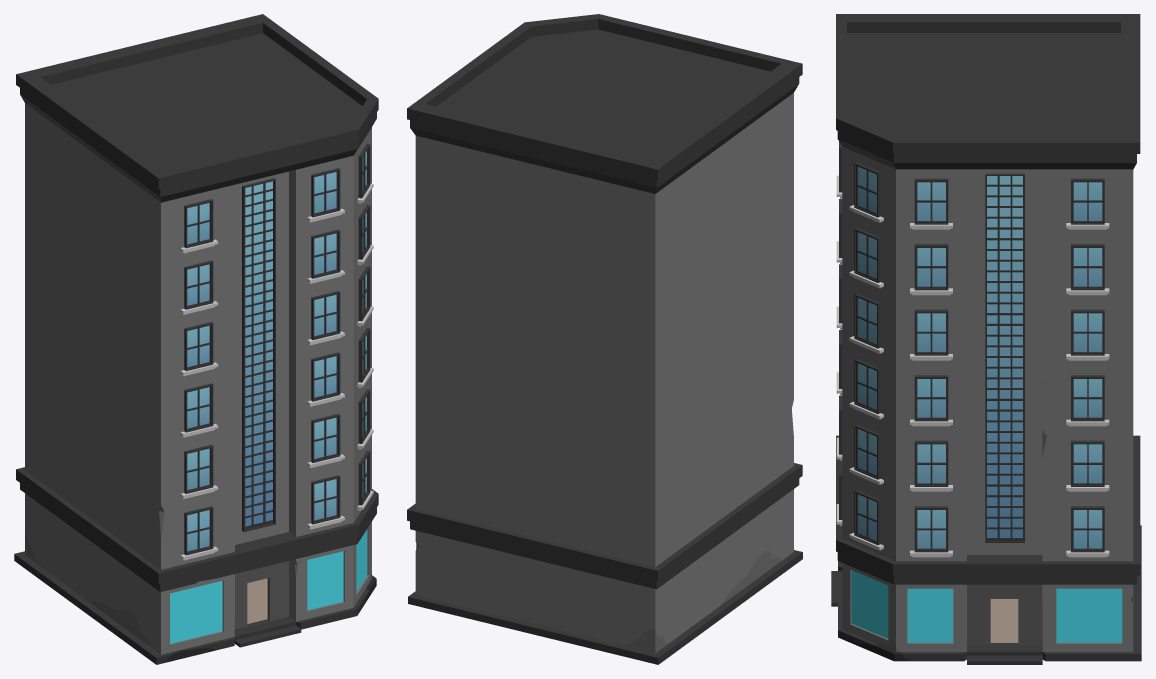
Rendered from SM_Buildings_Office_05.fbx.
The picture shows the model from 3 angles, left to right: view 1: azimuth 30°, elevation 25°; view 2: azimuth 150°, elevation 25°; view 3: azimuth 270°, elevation 25°; orthographic projection. The views are drawn at different scales.
Visible parts, largest first — view 1: SM_Buildings_Office_05; view 2: SM_Buildings_Office_05; view 3: SM_Buildings_Office_05.
Part boxes in pixels (<box>): SM_Buildings_Office_05: <box>14,14,378,664</box>; SM_Buildings_Office_05: <box>407,14,802,664</box>; SM_Buildings_Office_05: <box>831,14,1141,664</box>.
Bounding box in the file's own units: 13.99 × 25.66 × 13.89.
